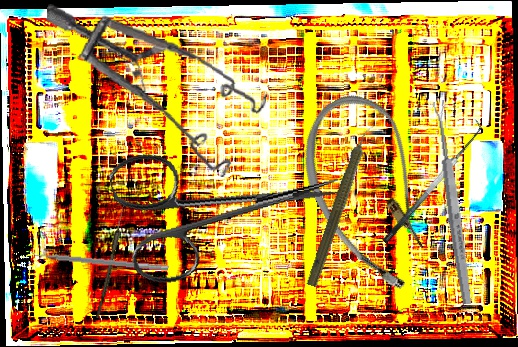Cannula: (278, 80, 467, 304)
Handpiece: (303, 119, 380, 290)
Iris Scissors: (106, 118, 352, 291)
Spatula Surgical: (372, 117, 490, 246), (26, 246, 170, 272)
Speculum: (34, 3, 273, 181)
Surgical Spoon: (431, 100, 475, 305), (95, 199, 128, 319)
